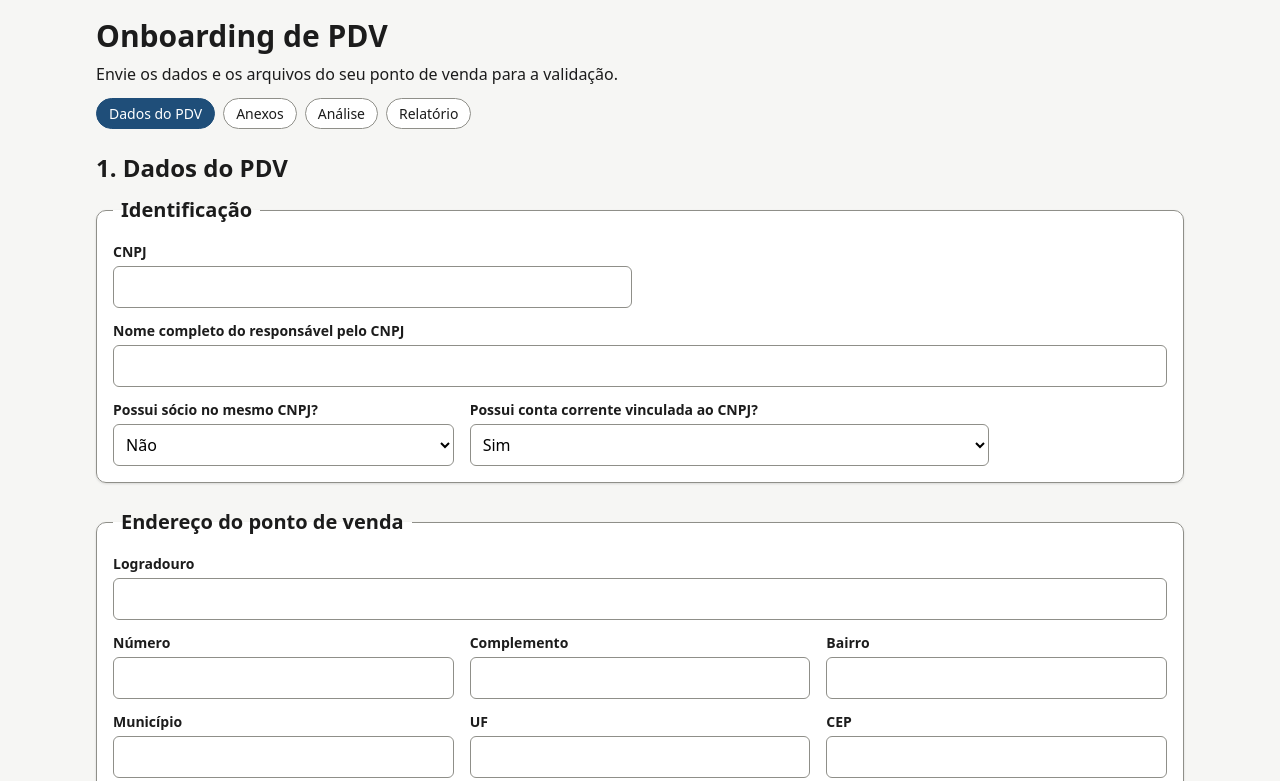
sem VITE_N8N_BASE_URL, o aviso de serviço não configurado já aparece na etapa 2, não só na 3
The width and height of the screenshot is (1280, 781).
In the field labelled "CNPJ": (372, 287) 113,266 -> 632,308, type "11222333000181"
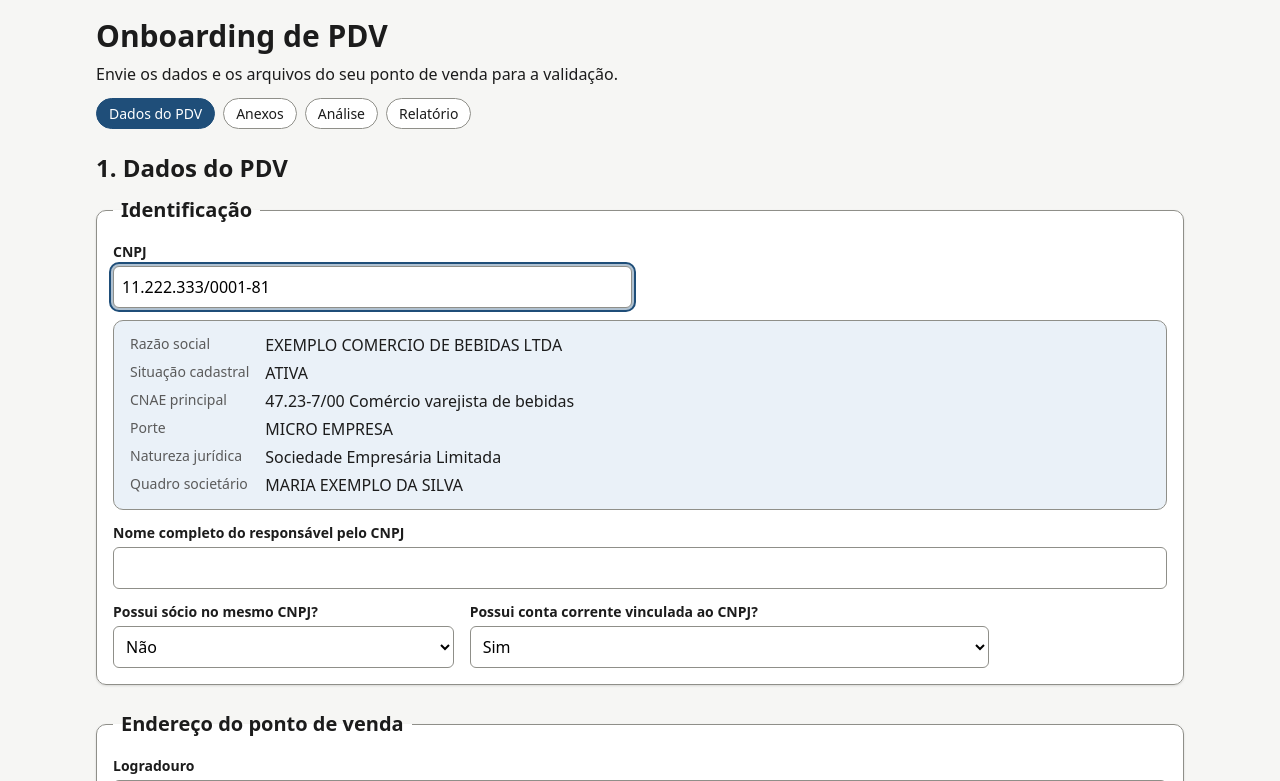
Result: the text "EXEMPLO COMERCIO DE BEBIDAS LTDA" is shown at 265,334 -> 562,356
In the field labelled "Nome completo do responsável pelo CNPJ": (640, 568) 113,547 -> 1167,589, type "Maria Exemplo da Silva"
(page scrolled)
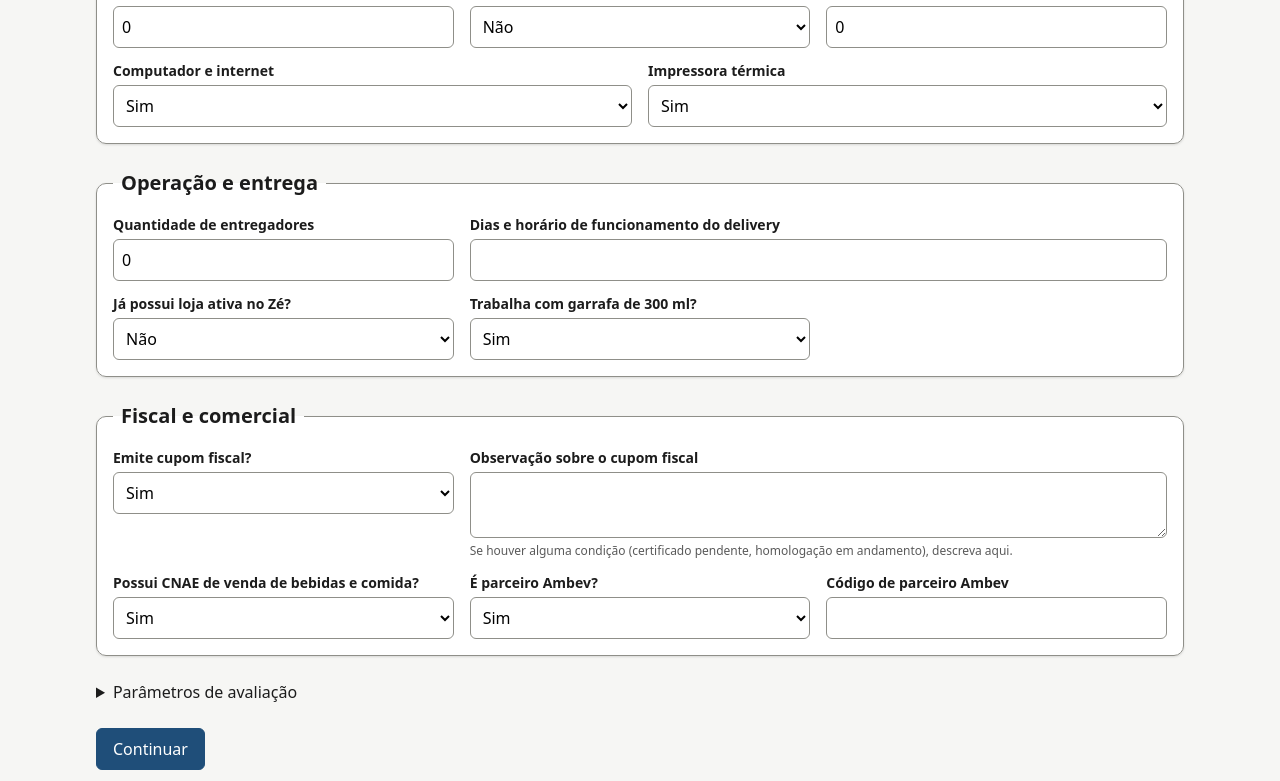
In the field labelled "Código de parceiro Ambev": (997, 618) 826,597 -> 1167,639, type "0011223"
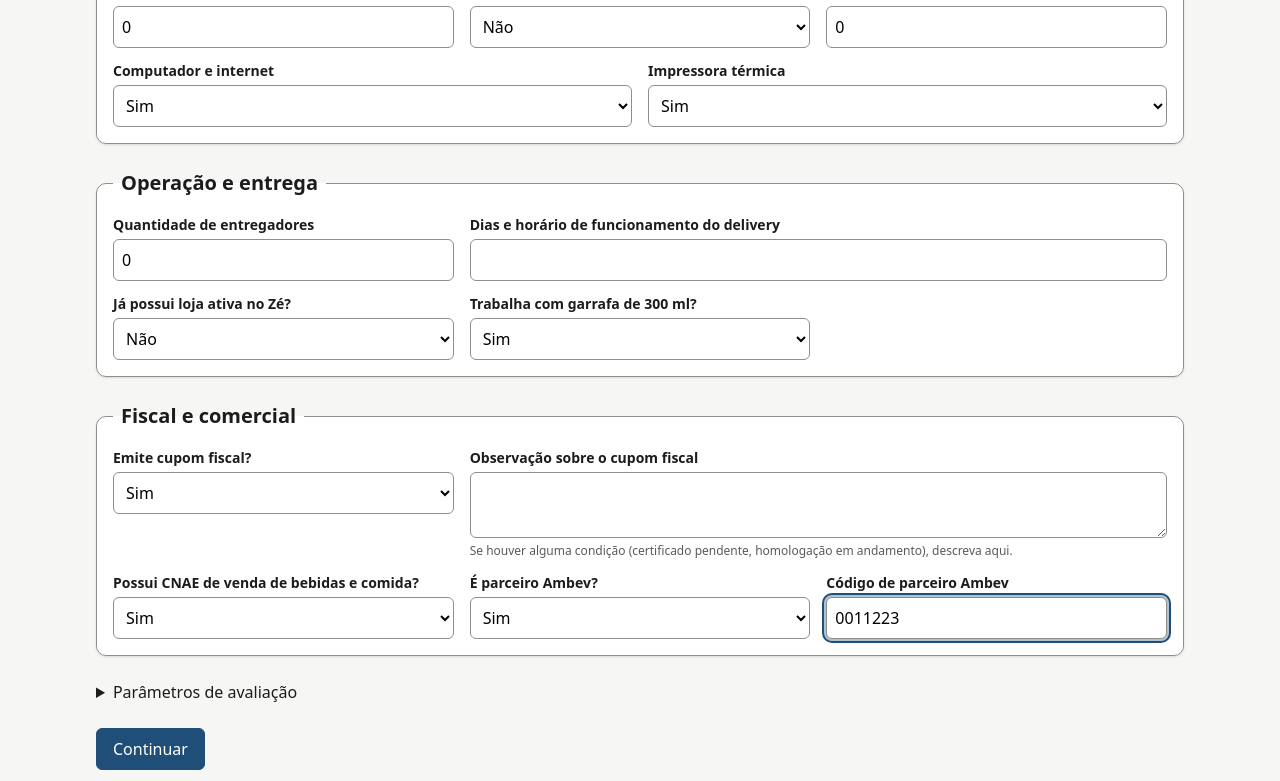
In the field labelled "Dias e horário de funcionamento do delivery": (818, 260) 470,239 -> 1167,281, type "segunda a domingo, 10h às 23h"
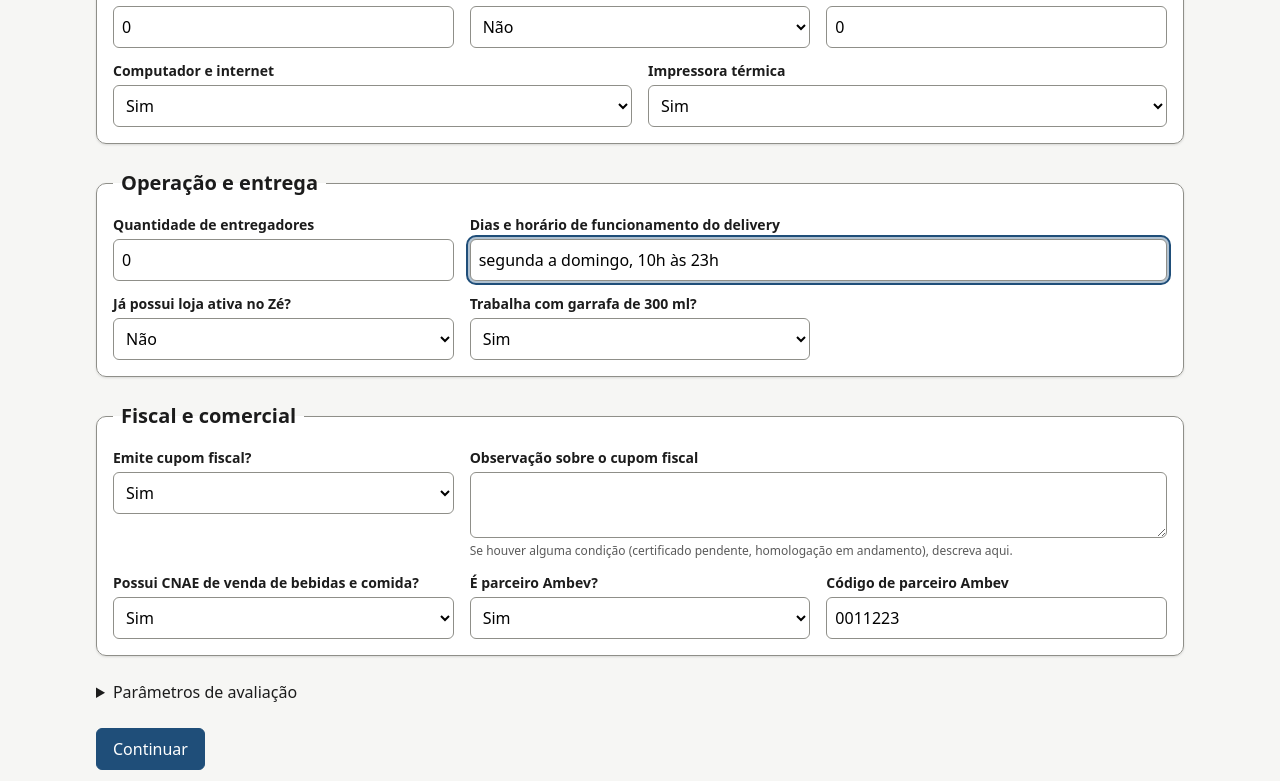
Click the button "Continuar": (150, 749) 96,728 -> 205,770
(page scrolled)
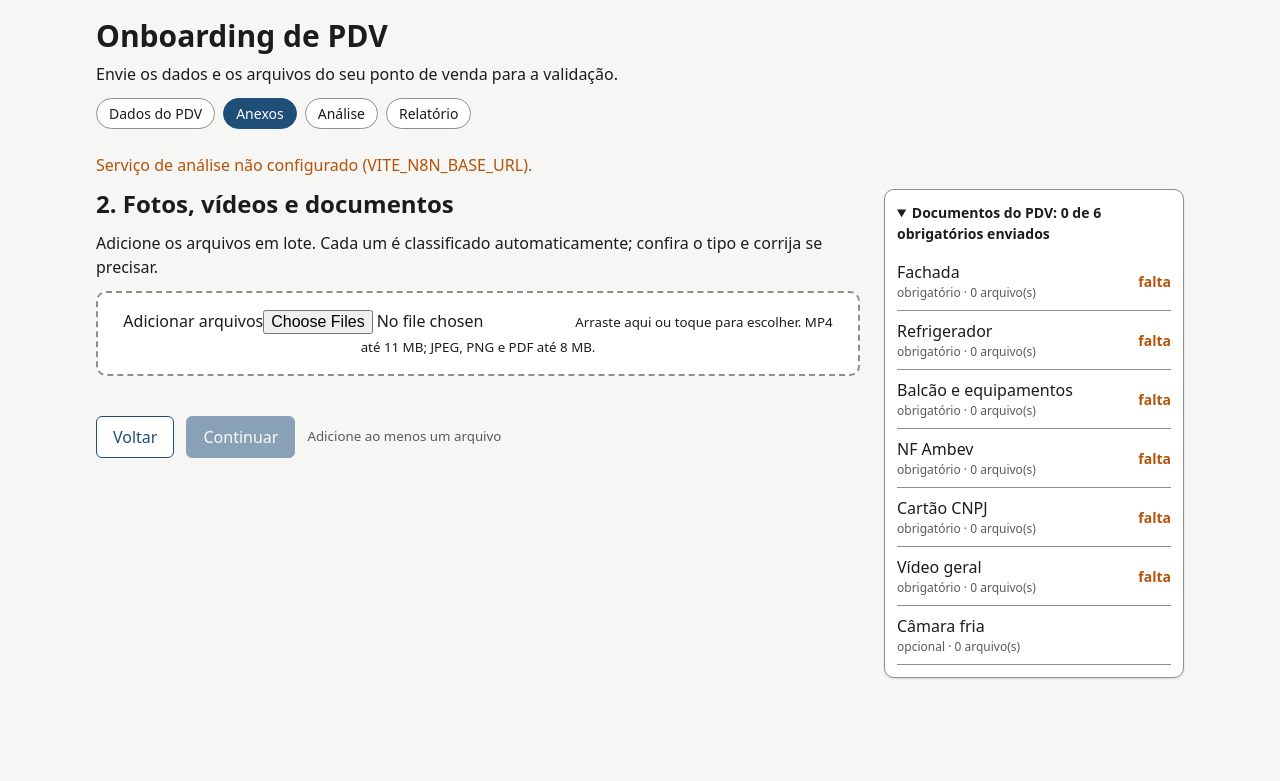
Result: the heading "2. Fotos, vídeos e documentos" is shown at 96,187 -> 454,220
Result: the message "Serviço de análise não configurado (VITE_N8N_BASE_URL)." is shown at 96,154 -> 532,176
